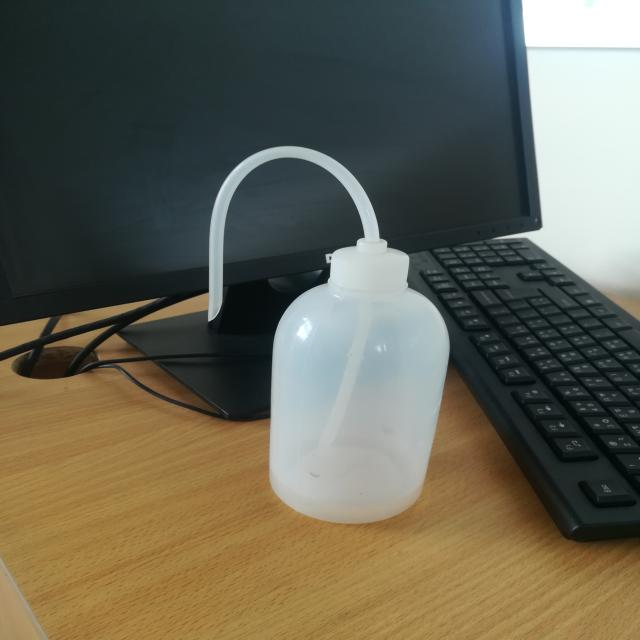Wash_Bottle: (130, 118, 508, 550)
